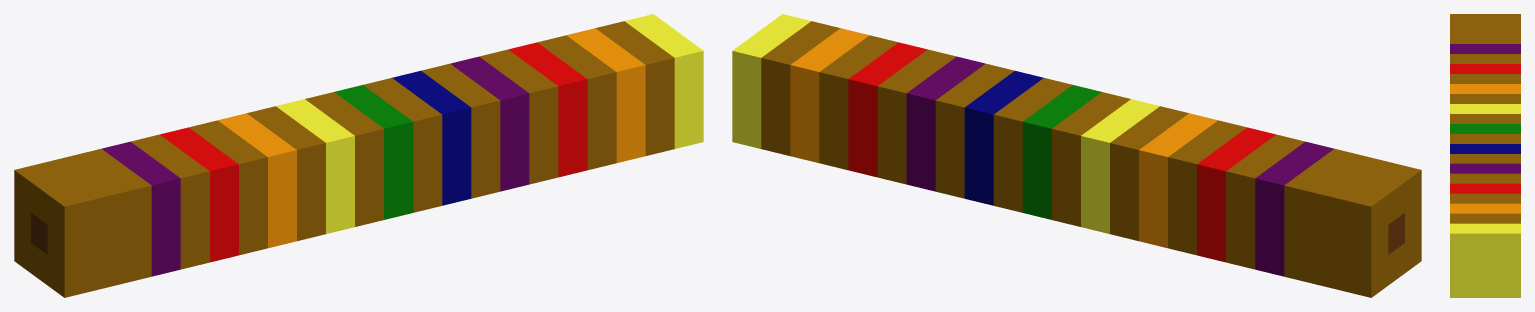
The model's file is GoblinRanged-1-Screenshot_1 (1).obj.
The picture shows the model from 3 angles, left to right: view 1: azimuth 30°, elevation 25°; view 2: azimuth 150°, elevation 25°; view 3: azimuth 270°, elevation 25°; orthographic projection. The views are drawn at different scales.
Parts seen in each view (by area): view 1: Screenshot_1 (1); view 2: Screenshot_1 (1); view 3: Screenshot_1 (1).
Boxes of the visible parts, <box> form: Screenshot_1 (1): <box>14,14,703,297</box>; Screenshot_1 (1): <box>732,14,1421,297</box>; Screenshot_1 (1): <box>1450,14,1520,297</box>.
Size of the model in its own units: 2.2 by 0.3 by 0.3.
1 material, 1 textured.
